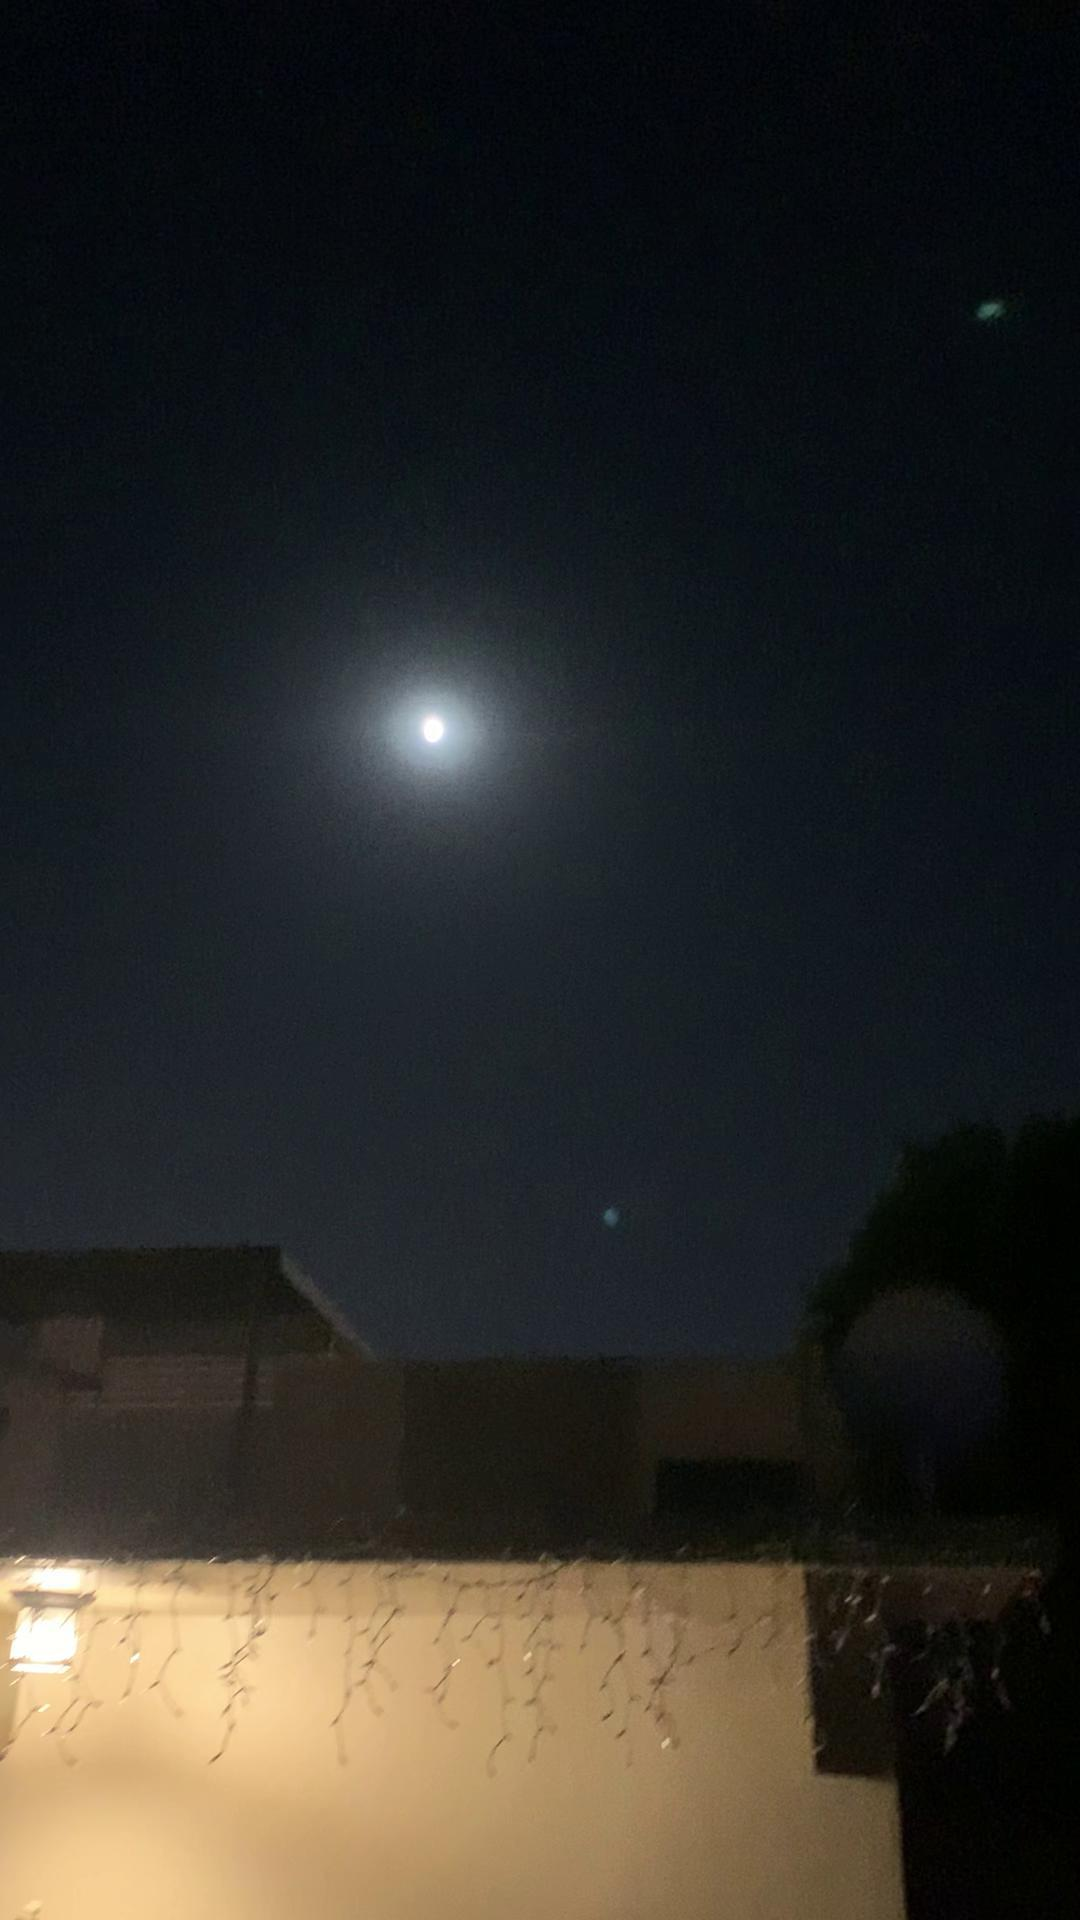moon: (396, 690, 483, 769)
